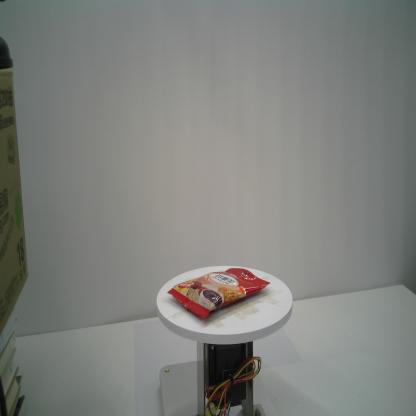Instant Drink: (167, 265, 272, 320)
